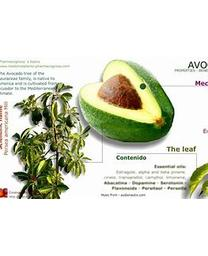avocado: (78, 58, 175, 146)
